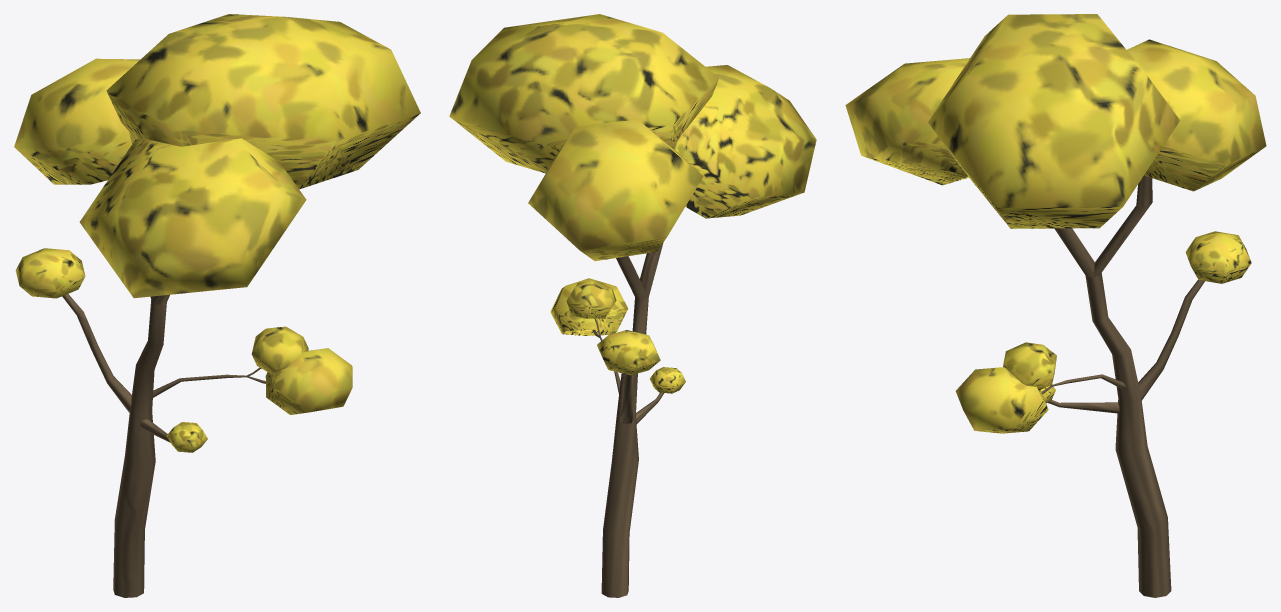
Rendered from ArvoreMediaAraucaria.fbx.
3 views of the same model, side by side, from view 1: azimuth 30°, elevation 25°; view 2: azimuth 150°, elevation 25°; view 3: azimuth 270°, elevation 25° (orthographic). The views are drawn at different scales.
Visible parts, largest first — view 1: ArvoreMediaAraucaria; view 2: ArvoreMediaAraucaria; view 3: ArvoreMediaAraucaria.
Part boxes in pixels (left/top/right/bottom): ArvoreMediaAraucaria: left=14, top=14, right=420, bottom=597; ArvoreMediaAraucaria: left=449, top=14, right=816, bottom=597; ArvoreMediaAraucaria: left=845, top=14, right=1266, bottom=597.
Size of the model in its own units: 148 by 258 by 167.
